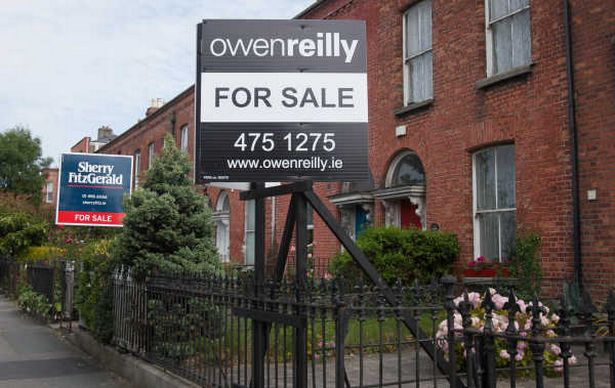property sign: (184, 8, 379, 197), (53, 146, 140, 243)
